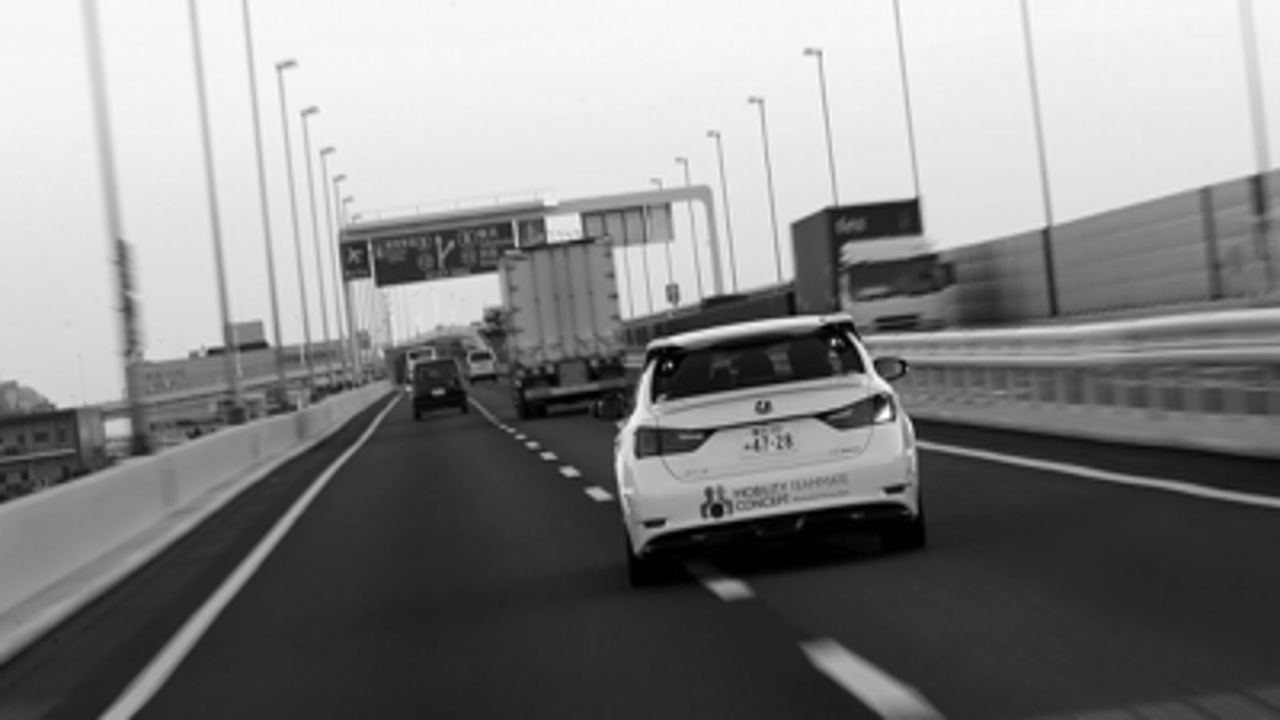license: (736, 422, 804, 454)
